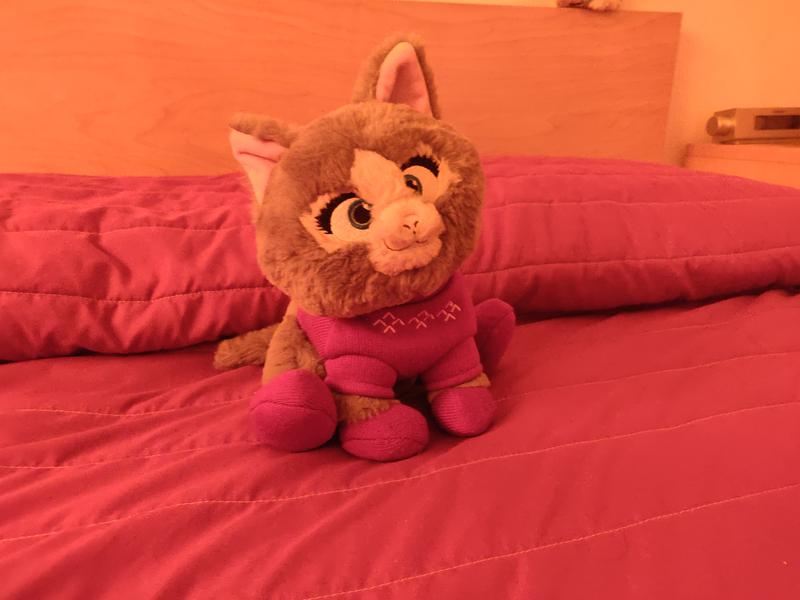kitten: (197, 25, 538, 454)
